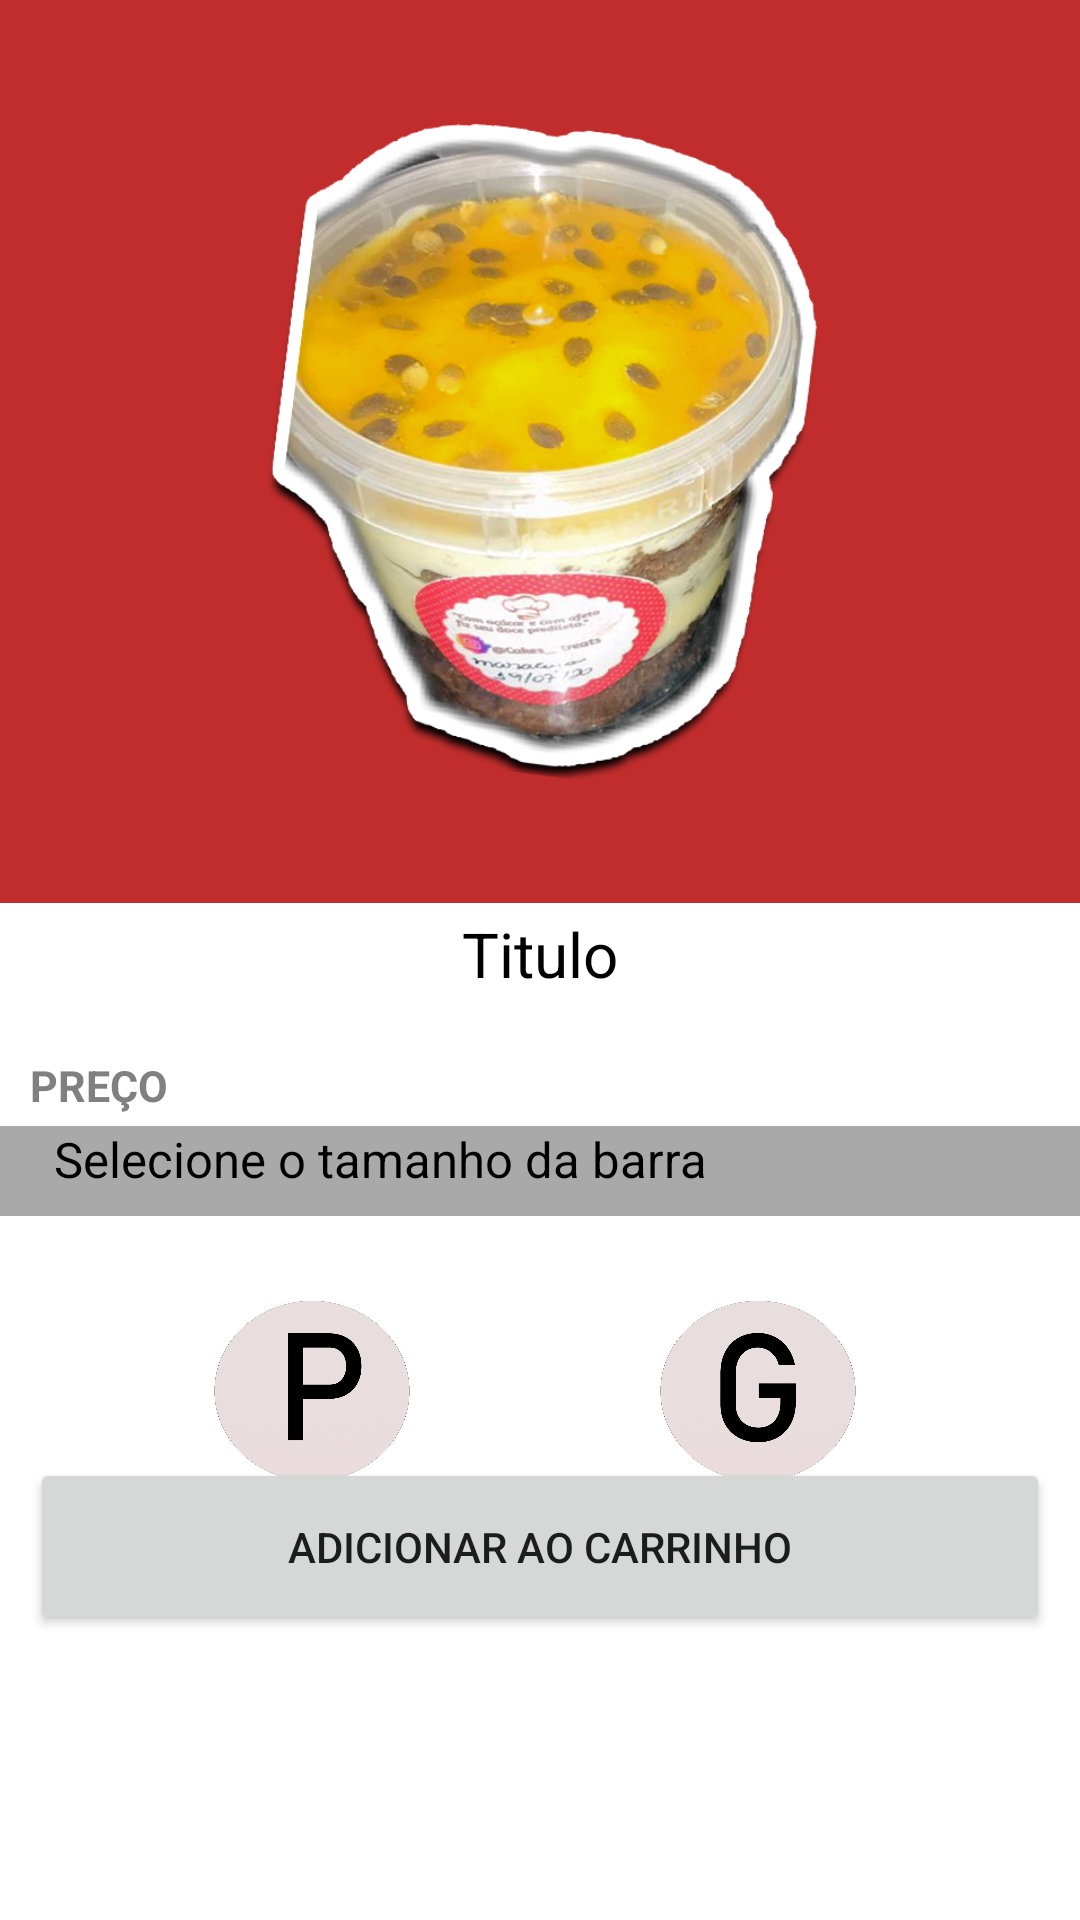

Icons on this 1080*1920 Android screen, each with its box as (x1, y1, x2, y2):
sinal tamaho: (180, 1301, 444, 1519), (626, 1301, 890, 1519)
